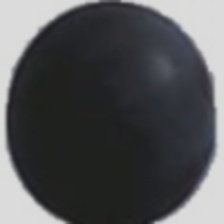grapes: (0, 17, 191, 186)
